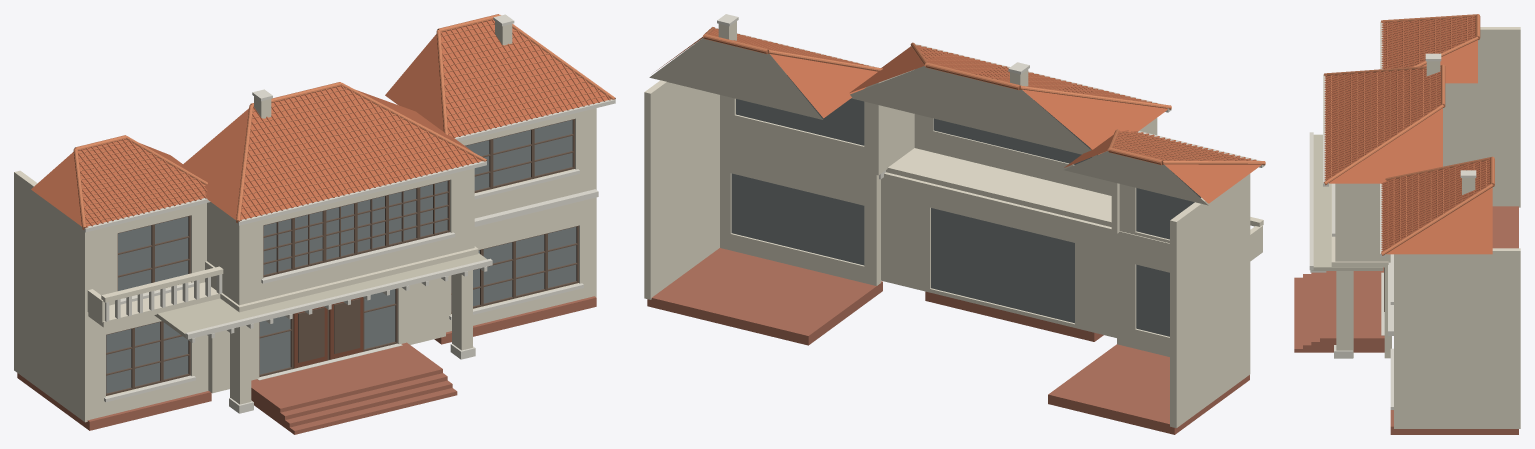
The model's file is xuhui-yueyang-road-110-residence-web.glb.
3 views of the same model, side by side, from view 1: azimuth 30°, elevation 25°; view 2: azimuth 150°, elevation 25°; view 3: azimuth 270°, elevation 25° (orthographic). The views are drawn at different scales.
Parts seen in each view (by area): view 1: 岳阳路110号住宅花园立面; view 2: 岳阳路110号住宅花园立面; view 3: 岳阳路110号住宅花园立面.
Boxes of the visible parts, x1=… form: 岳阳路110号住宅花园立面: x1=14, y1=14, x2=615, y2=434; 岳阳路110号住宅花园立面: x1=644, y1=14, x2=1265, y2=434; 岳阳路110号住宅花园立面: x1=1294, y1=14, x2=1520, y2=434.
Bounding box in the file's own units: 18.91 × 9.25 × 7.74.
